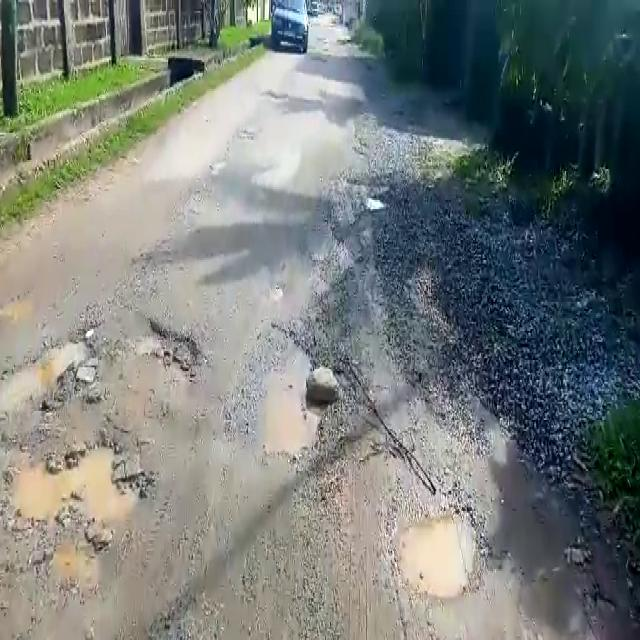Pothole: (5, 437, 147, 531), (233, 321, 322, 458), (2, 326, 102, 413), (391, 509, 480, 603), (130, 315, 200, 384)
